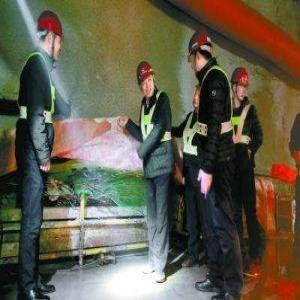red: (36, 12, 65, 63), (188, 30, 213, 75), (136, 61, 157, 98), (230, 68, 250, 103)
